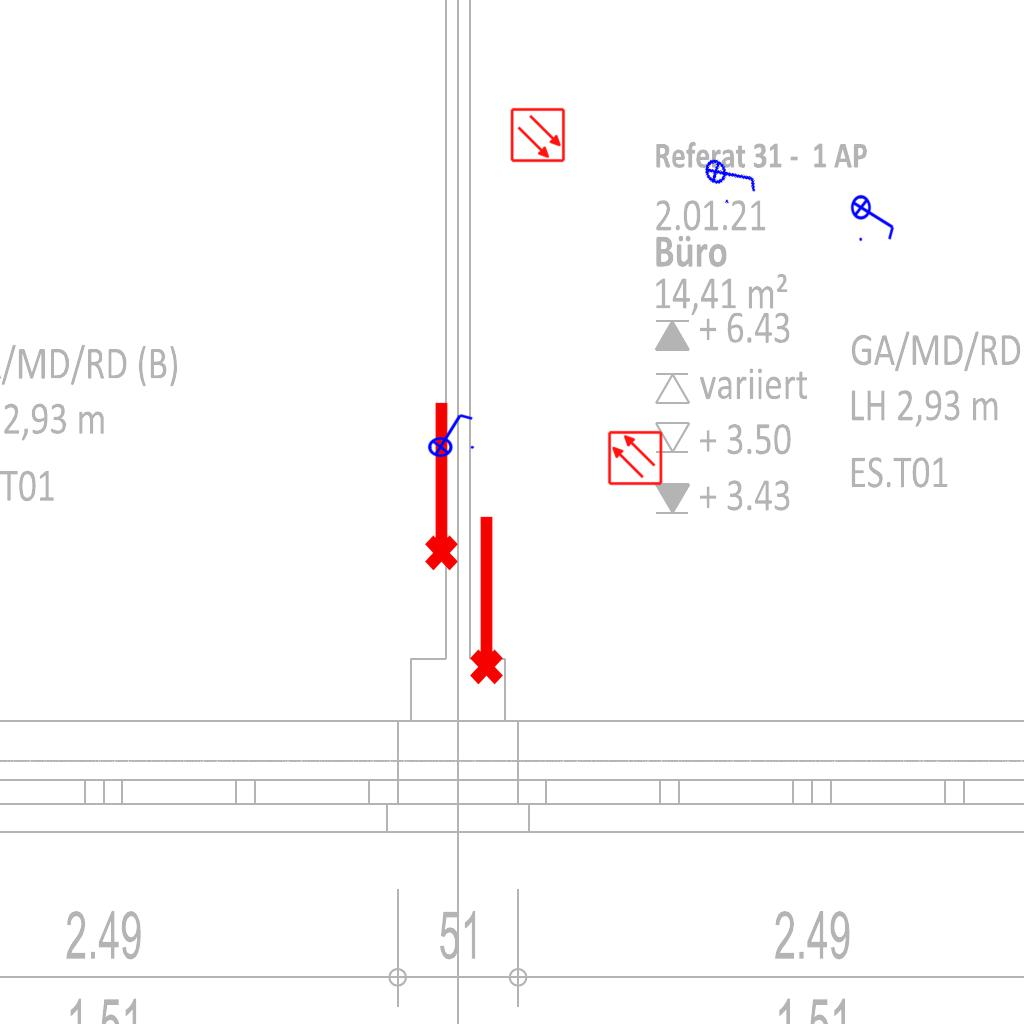ASR_Ansaugoeffnung: (461, 511, 507, 687), (416, 397, 462, 573)
Ausschalter_beleuchtet: (698, 140, 764, 210), (420, 409, 478, 459), (850, 188, 898, 244)
RMO_Rauchmelder_optischer: (607, 430, 663, 486), (510, 107, 566, 163)
